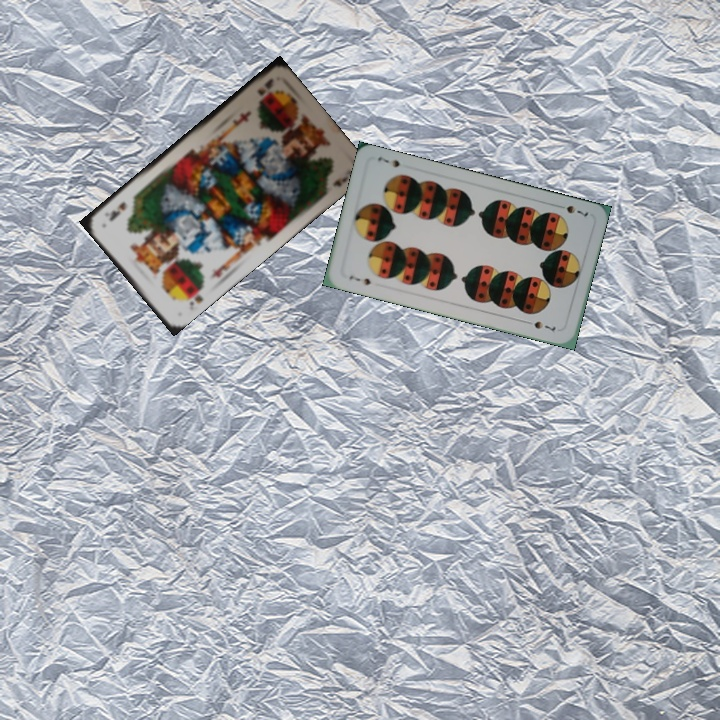S7: (553, 201, 591, 221), (345, 271, 374, 288)
SK: (185, 282, 206, 313), (254, 74, 276, 98)
